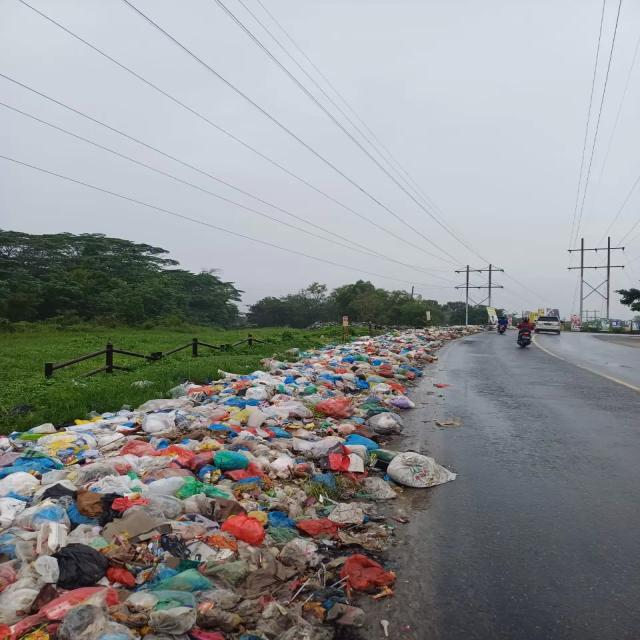trash: (0, 334, 458, 640)
